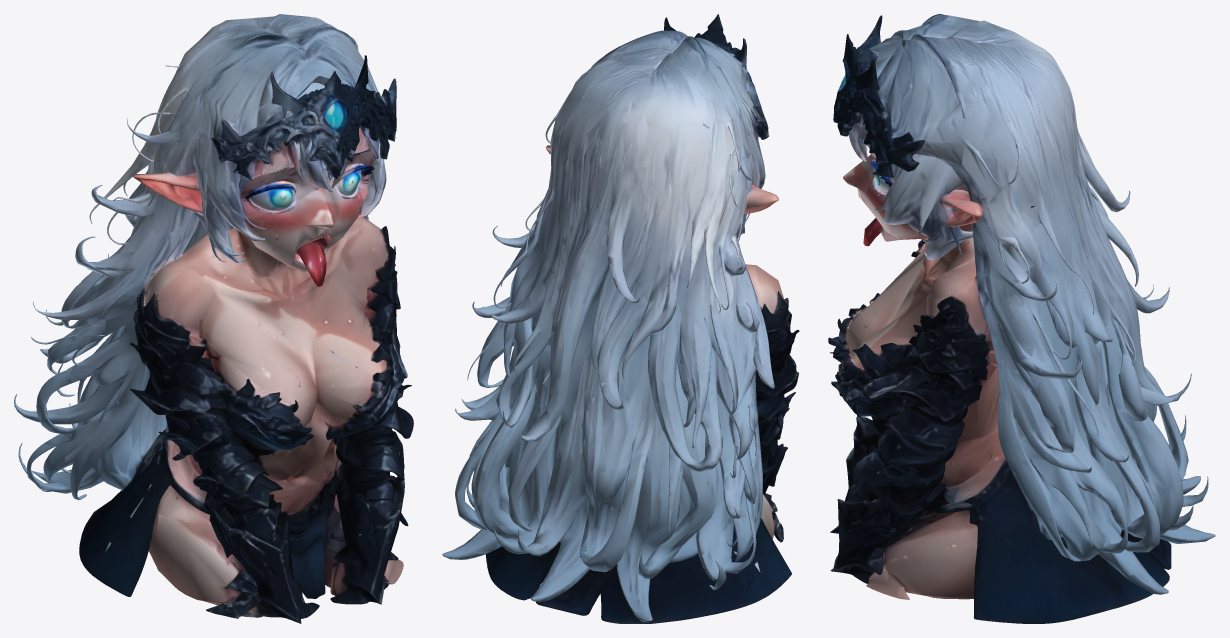
File: 01a1a2e4-1b66-7f1b-bc35-b57eb9c6bdf9.glb
3 views of the same model, side by side, from view 1: azimuth 30°, elevation 25°; view 2: azimuth 150°, elevation 25°; view 3: azimuth 270°, elevation 25° (orthographic). The views are drawn at different scales.
Visible parts, largest first — view 1: model; view 2: model; view 3: model.
Part boxes in pixels (x1,y1,x2,y2): model: (14, 14, 413, 623); model: (442, 14, 799, 623); model: (828, 14, 1215, 623).
Bounding box in the file's own units: 1.23 × 1.89 × 1.26.
Materials: 1 (1 with a texture image).
